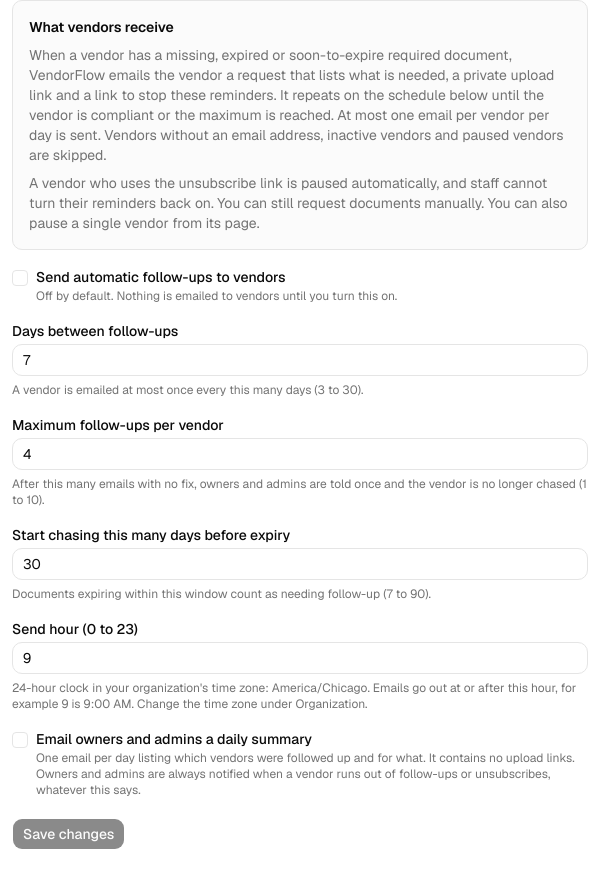
Test case: ChasingSettingsForm › maps server field errors and shows a form-level message for 403
The image size is (608, 879).
Click the checkbox named "Email owners and admins a daily summary" next to "Email owners and admins a daily summary": click(20, 740) [12,732,28,748]
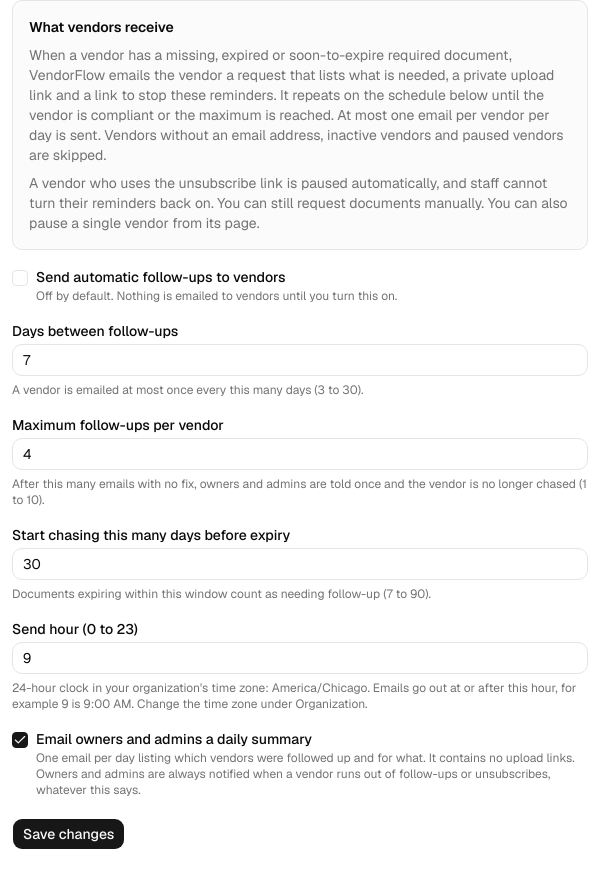
Click the button "Save changes": click(69, 834) [12,818,125,850]
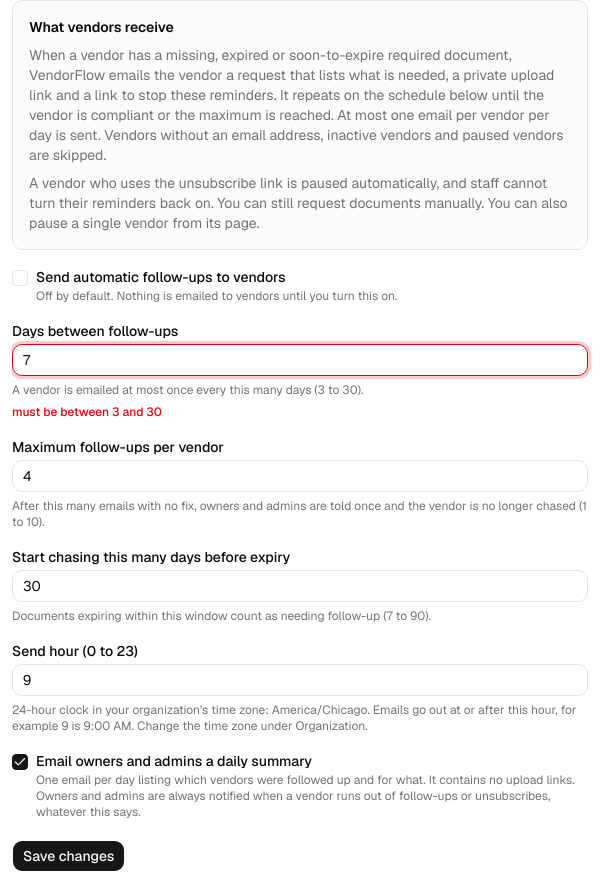
Expected: the text "must be between 3 and 30" is shown, [12,404,162,420]
Click the button "Save changes": click(69, 856) [12,840,125,872]
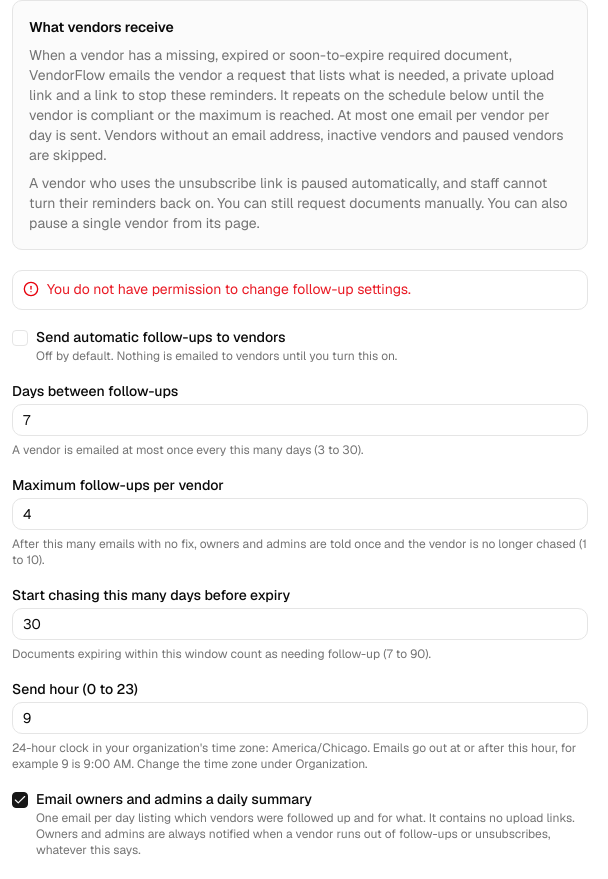
Expected: the text "You do not have permission to change follow-up settings." is shown, [47,280,411,298]
